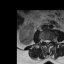CCS_normal: (46, 38, 48, 45)
LFS_normal: (50, 38, 52, 42)
LLS_stenosis: (48, 38, 50, 43)
RFS_normal: (43, 38, 45, 43)
RLS_normal: (45, 38, 46, 44)
